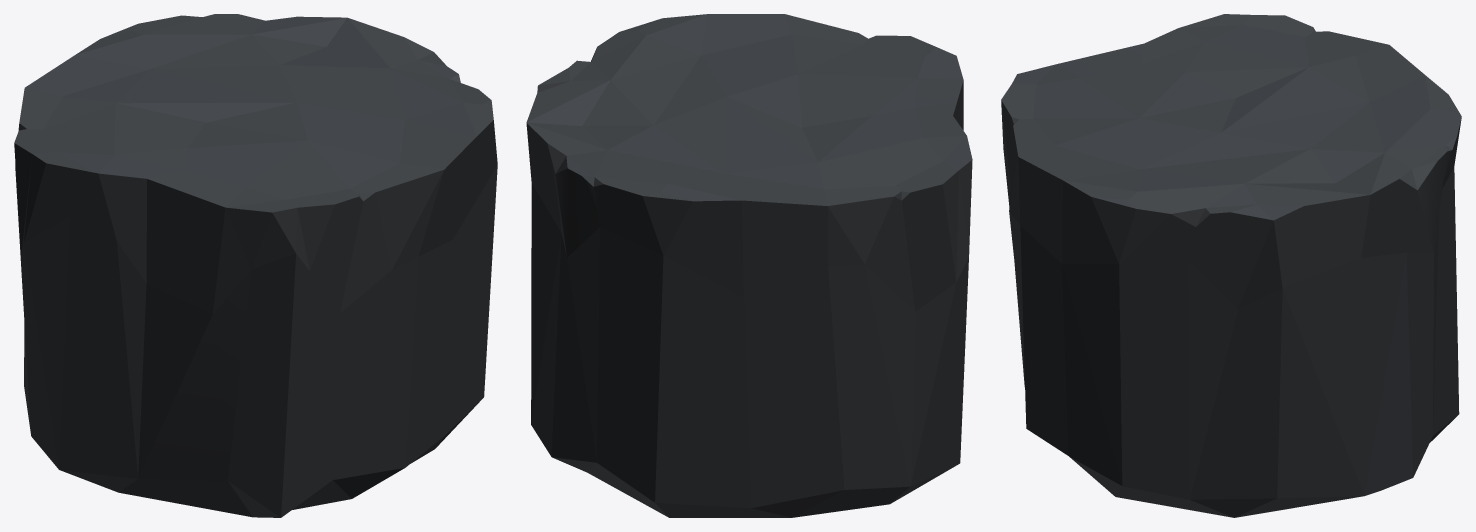
The model's file is isle_cliff_flat.gltf.
The picture shows the model from 3 angles, left to right: view 1: azimuth 30°, elevation 25°; view 2: azimuth 150°, elevation 25°; view 3: azimuth 270°, elevation 25°; orthographic projection.
Parts seen in each view (by area): view 1: isle_cliff_flat; view 2: isle_cliff_flat; view 3: isle_cliff_flat.
Boxes of the visible parts, x1,y1,x2,y2 form: isle_cliff_flat: [14, 14, 497, 517]; isle_cliff_flat: [526, 14, 972, 517]; isle_cliff_flat: [1001, 14, 1461, 517].
Size of the model in its own units: 31.39 by 24.6 by 30.07.
Materials: 1 (1 with a texture image).
